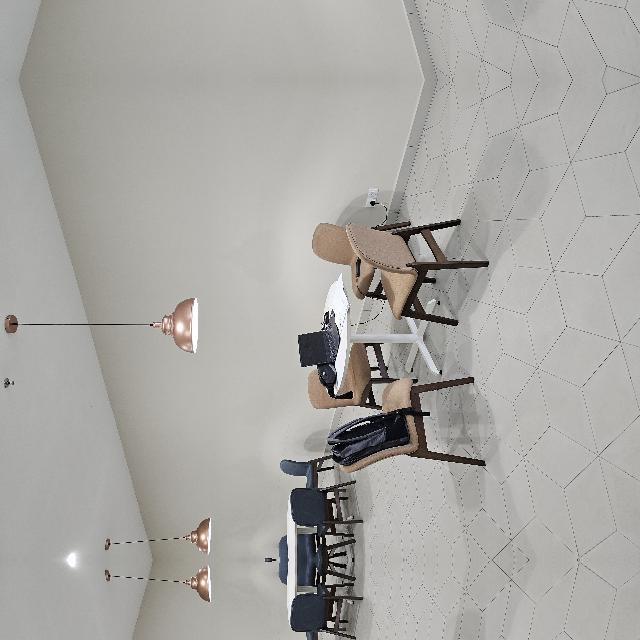obstacle: (80, 376, 364, 554), (80, 566, 363, 640)
